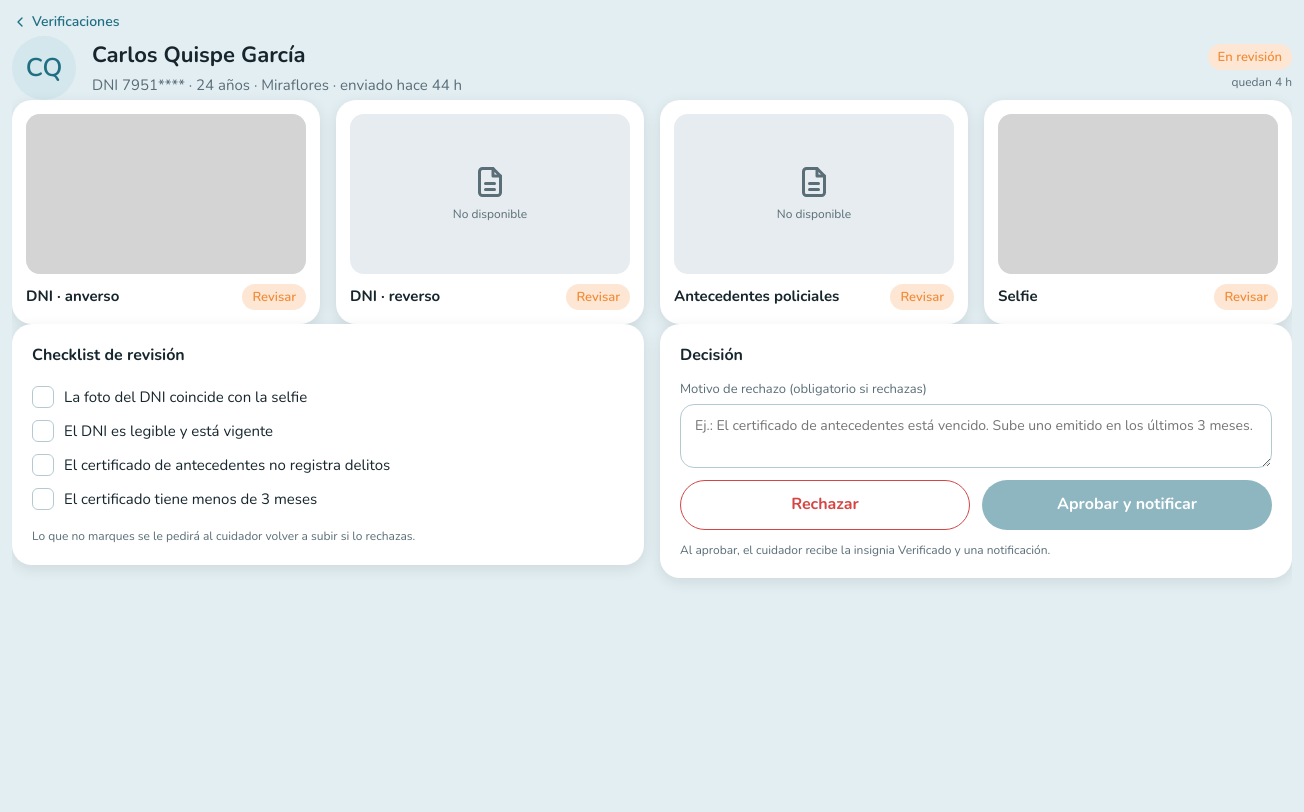
it: Revisar cuidador › aprueba solo con el checklist completo
The image size is (1304, 812).
Expected: the heading "Carlos Quispe García" is shown, x1=92 y1=40 x2=306 y2=70
Expected: the text "DNI 7951**** · 24 años · Miraflores · enviado hace 44 h" is shown, x1=92 y1=75 x2=462 y2=95
Click the checkbox labelled "La foto del DNI coincide con la selfie" at (170,397), box x1=32 y1=386 x2=307 y2=408
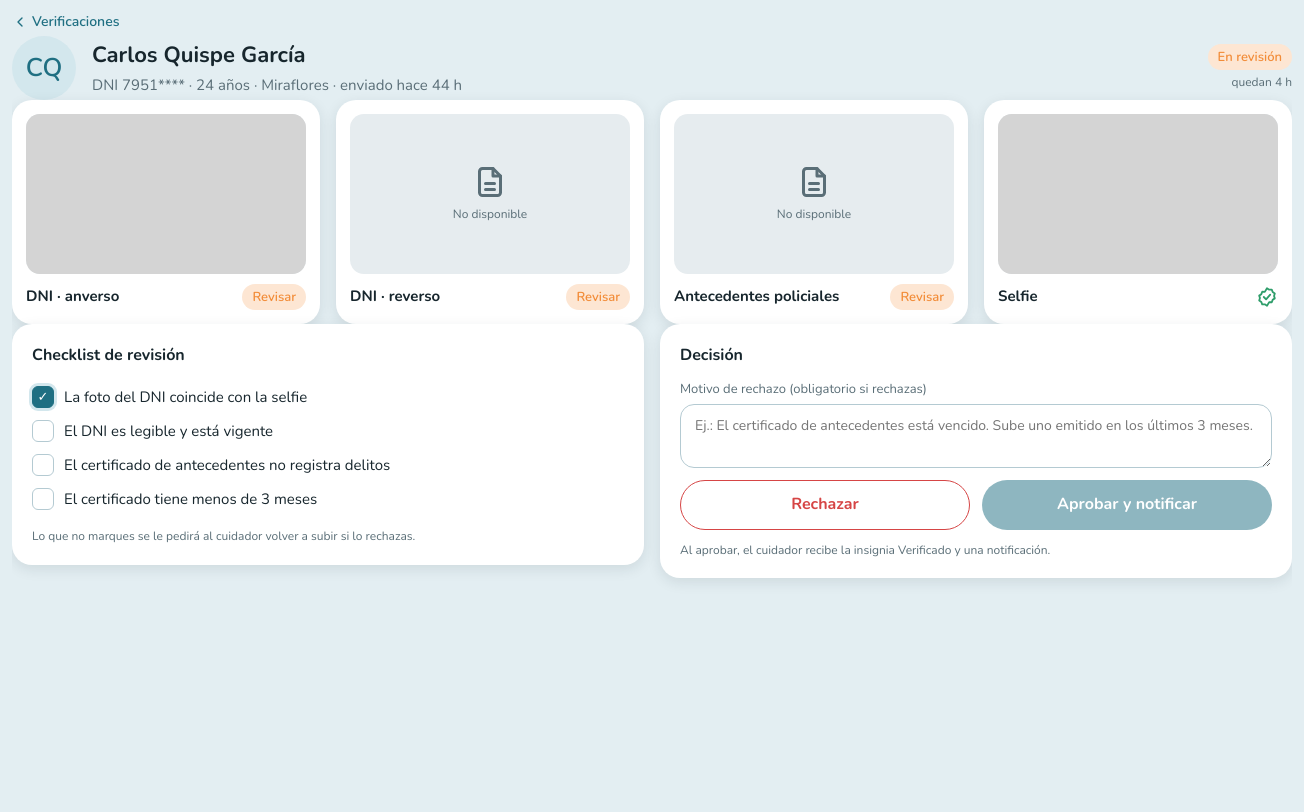
Click the checkbox labelled "El DNI es legible y está vigente" at (153,431), box x1=32 y1=420 x2=273 y2=442
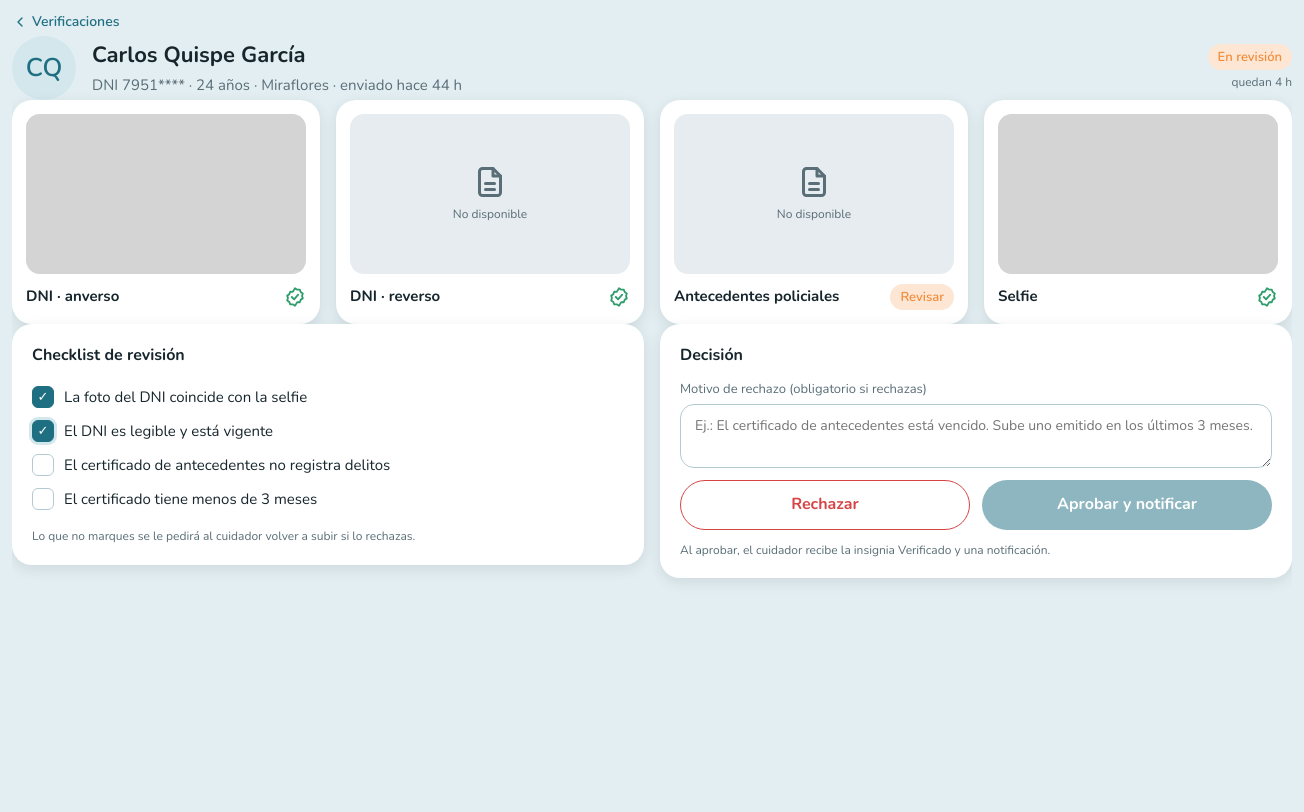
Click the checkbox labelled "El certificado de antecedentes no registra delitos" at (211,465), box x1=32 y1=454 x2=390 y2=476
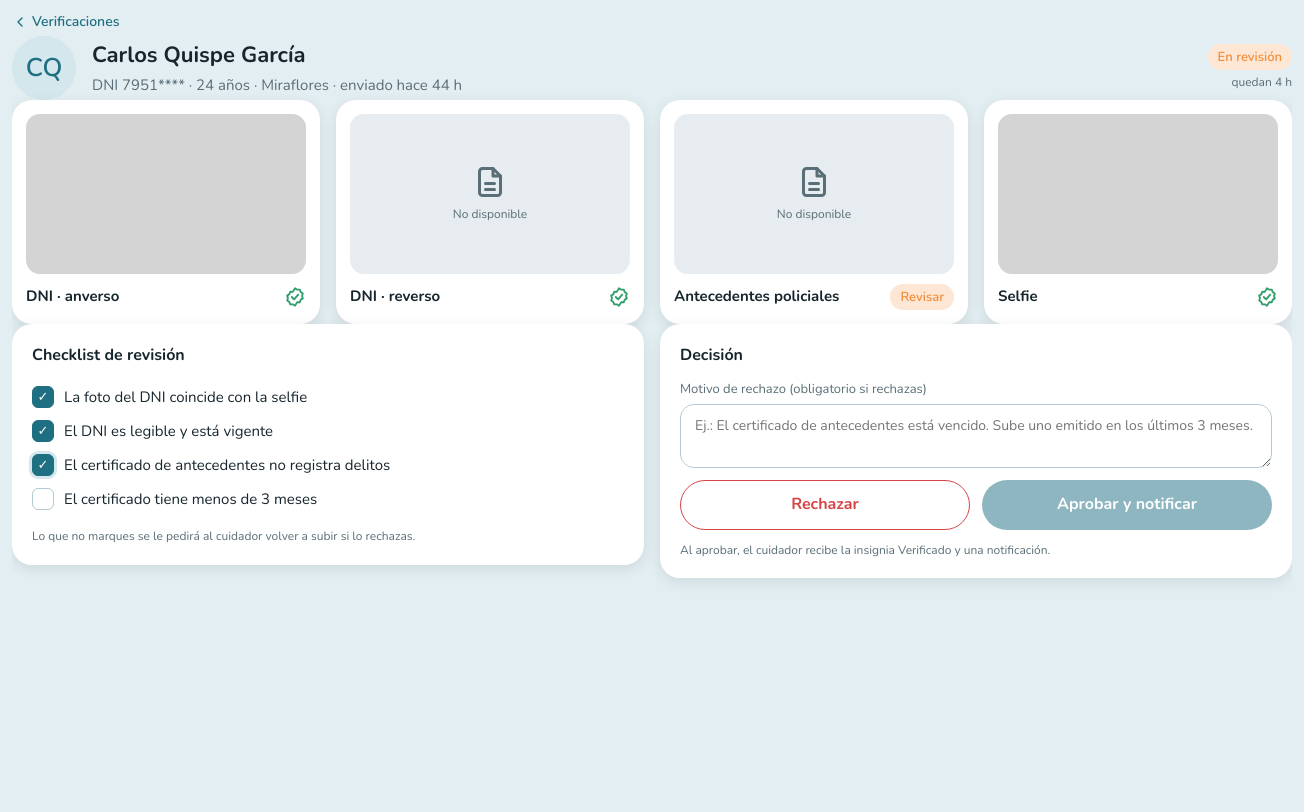
Click the checkbox labelled "El certificado tiene menos de 3 meses" at (175,499), box x1=32 y1=488 x2=317 y2=510
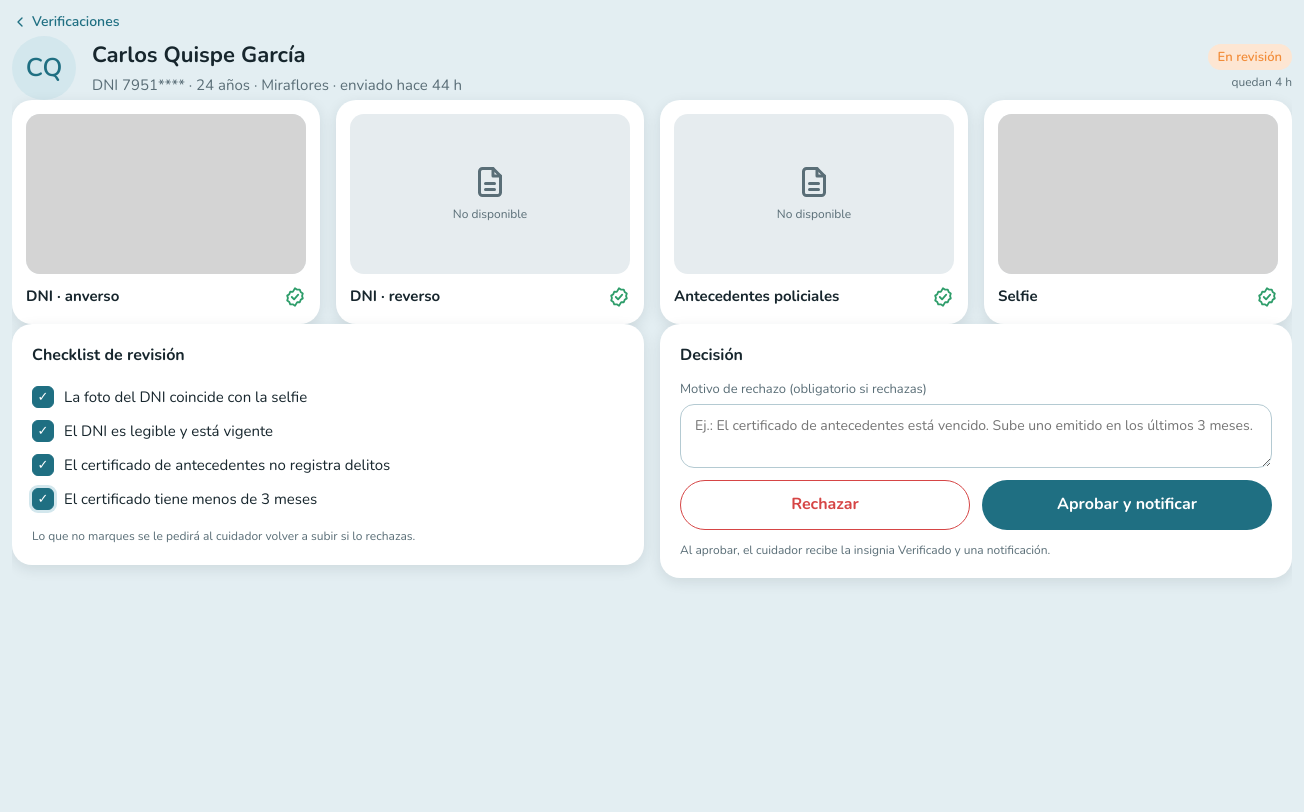
Now the button "Aprobar y notificar" is enabled
Click the button "Aprobar y notificar" at (1127,505), box x1=982 y1=480 x2=1272 y2=530
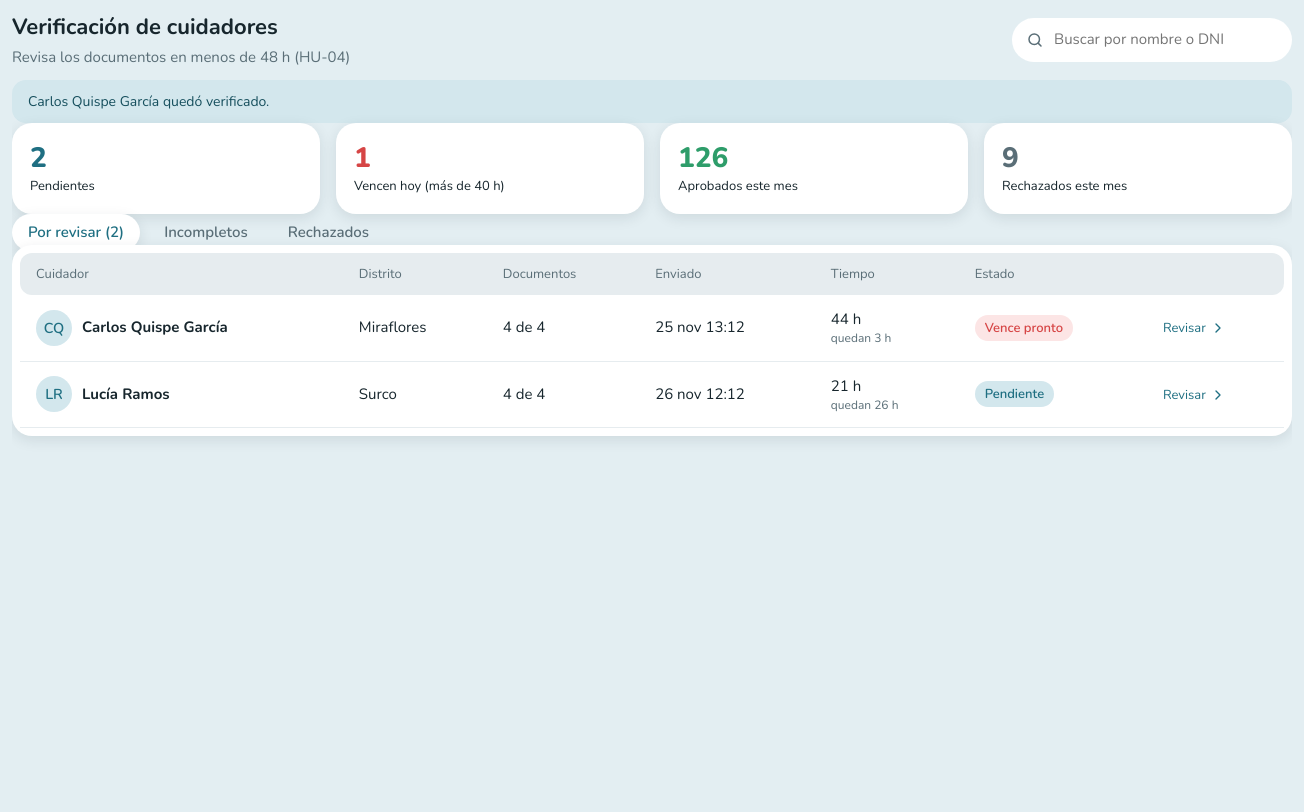
Now the text "Carlos Quispe García quedó verificado." is shown, box x1=12 y1=80 x2=1292 y2=123
